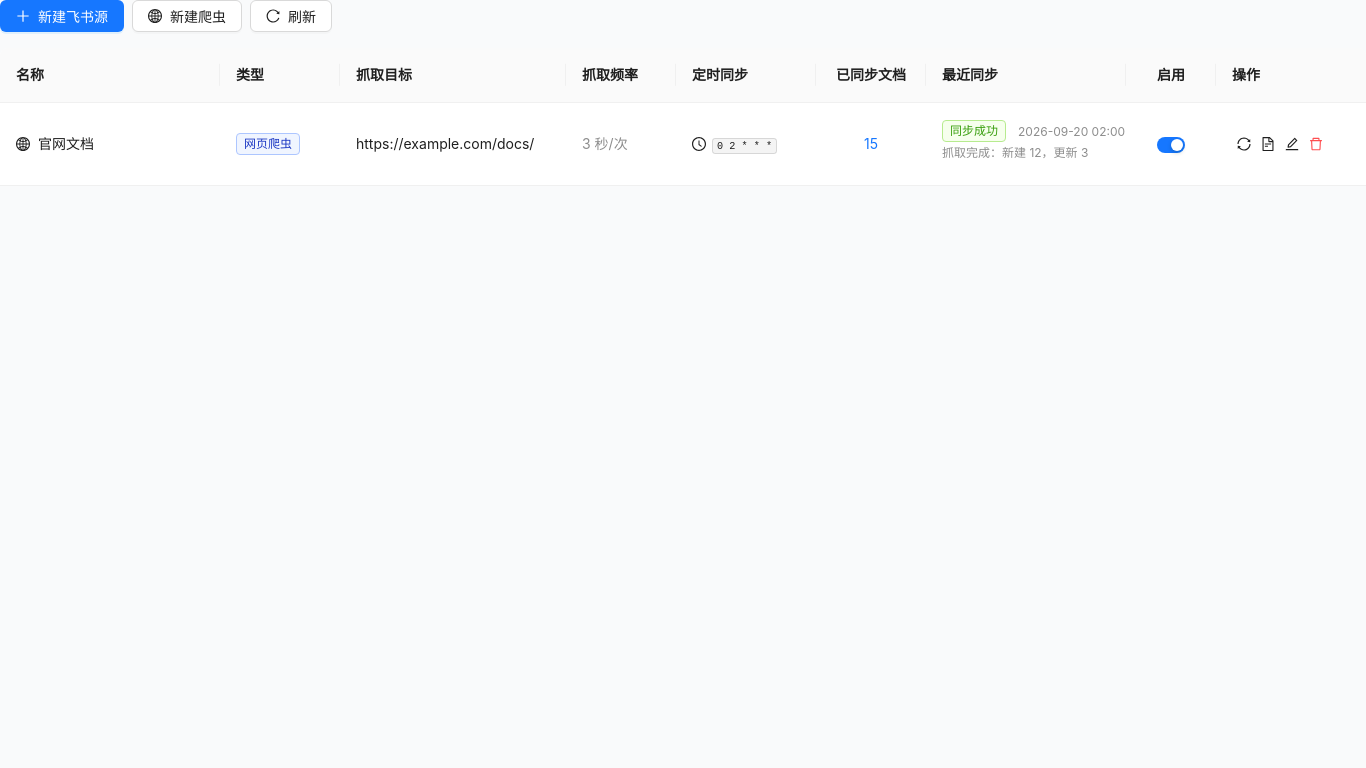
Test: WikiSources › 点击已同步文档数量打开文档抽屉并加载文档列表
Click the link "15".
click(871, 143)  # box top-left (864, 135), bottom-right (878, 152)
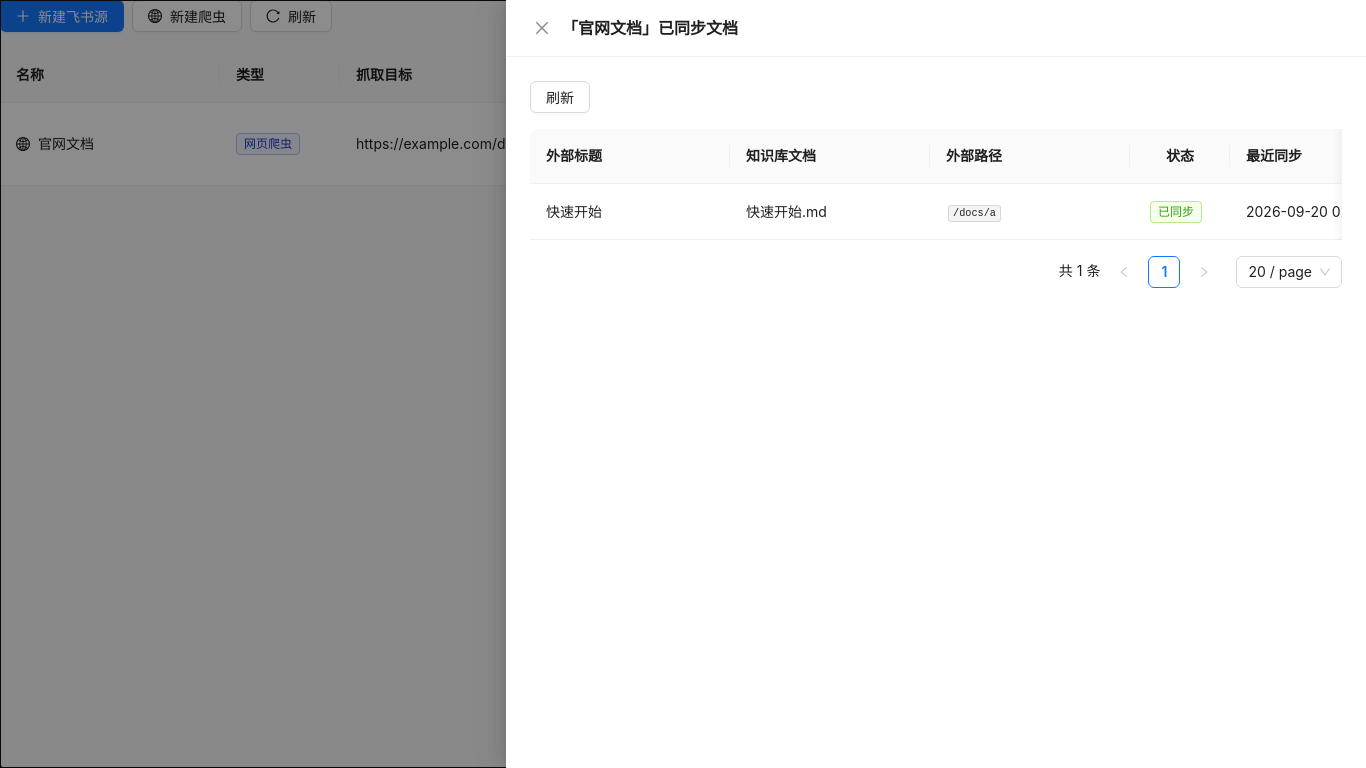
Expected: the text "快速开始" is shown, top-left (530, 184), bottom-right (730, 240)
Expected: the text "/docs/a" is shown, top-left (948, 206), bottom-right (1001, 222)
